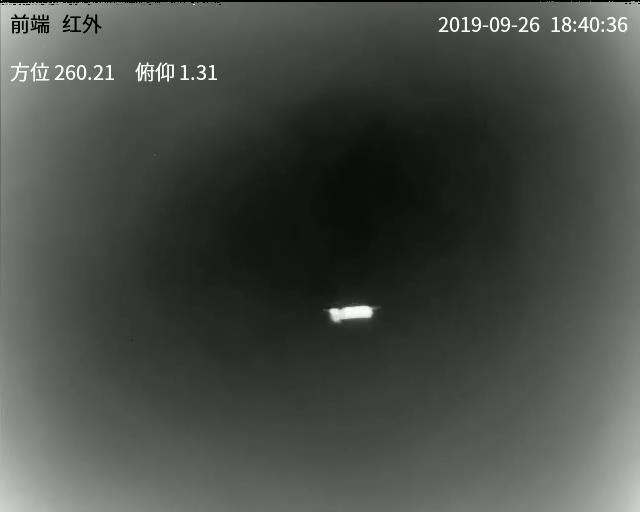uav: (320, 301, 379, 323)
